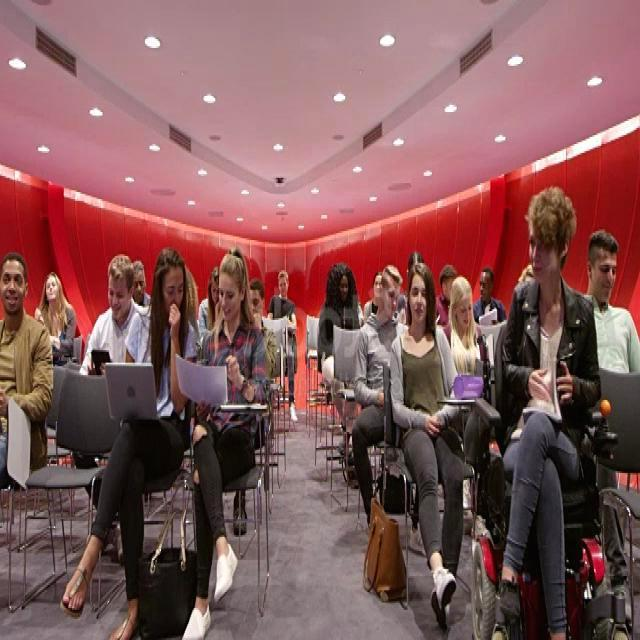Looking away: (590, 245, 619, 302), (160, 264, 186, 323), (218, 272, 242, 322), (108, 273, 130, 322), (380, 274, 402, 322), (454, 291, 474, 329), (478, 264, 496, 306), (132, 268, 145, 304), (337, 272, 351, 304)
Looking forward: (528, 216, 560, 281), (0, 259, 26, 313), (408, 272, 429, 324), (46, 274, 59, 301), (278, 274, 288, 296)
